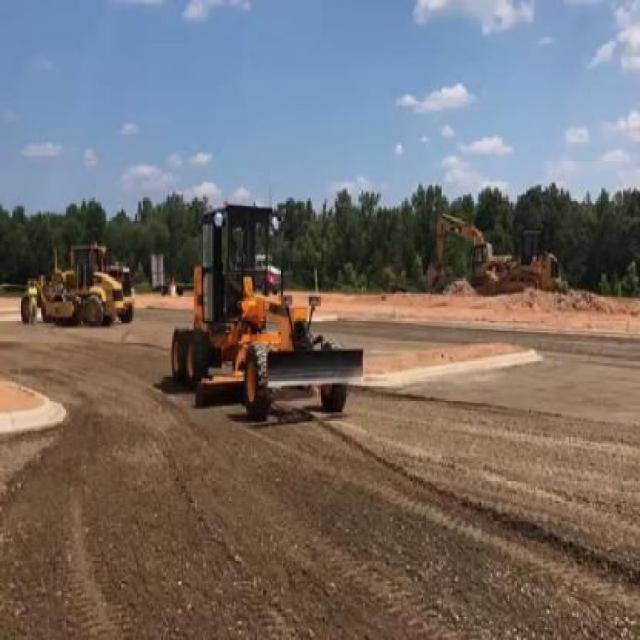Excavator: (431, 212, 507, 276)
Grader: (168, 200, 366, 428)
